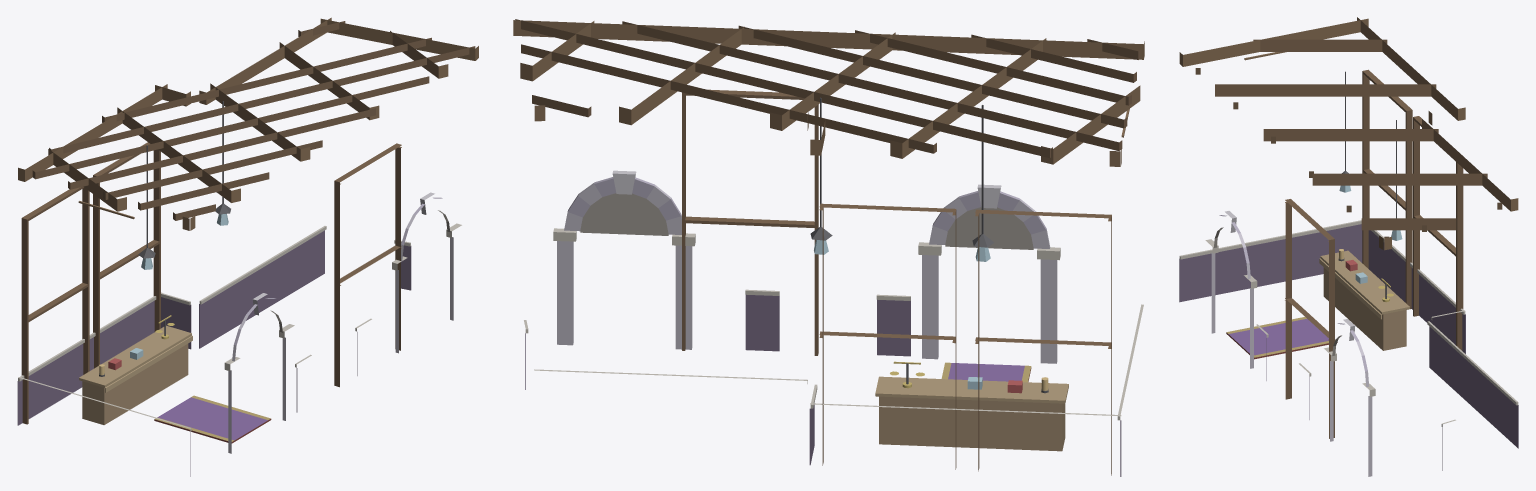
File: interior_b048.glb
3 views of the same model, side by side, from view 1: azimuth 30°, elevation 25°; view 2: azimuth 150°, elevation 25°; view 3: azimuth 270°, elevation 25° (orthographic). The views are drawn at different scales.
Visible parts, largest first — view 1: Interior_B048_mesh; view 2: Interior_B048_mesh; view 3: Interior_B048_mesh.
Boxes of the visible parts, x1=… form: Interior_B048_mesh: x1=17, y1=17, x2=478, y2=476; Interior_B048_mesh: x1=513, y1=19, x2=1144, y2=476; Interior_B048_mesh: x1=1179, y1=17, x2=1518, y2=476.
Size of the model in its own units: 12.81 by 6.64 by 8.28.
